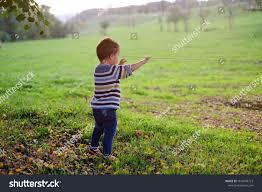child: (82, 36, 151, 160)
